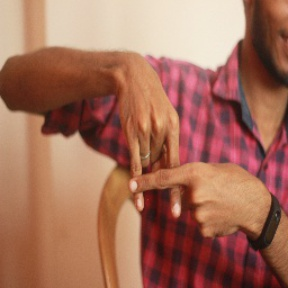H: (117, 119, 205, 224)
